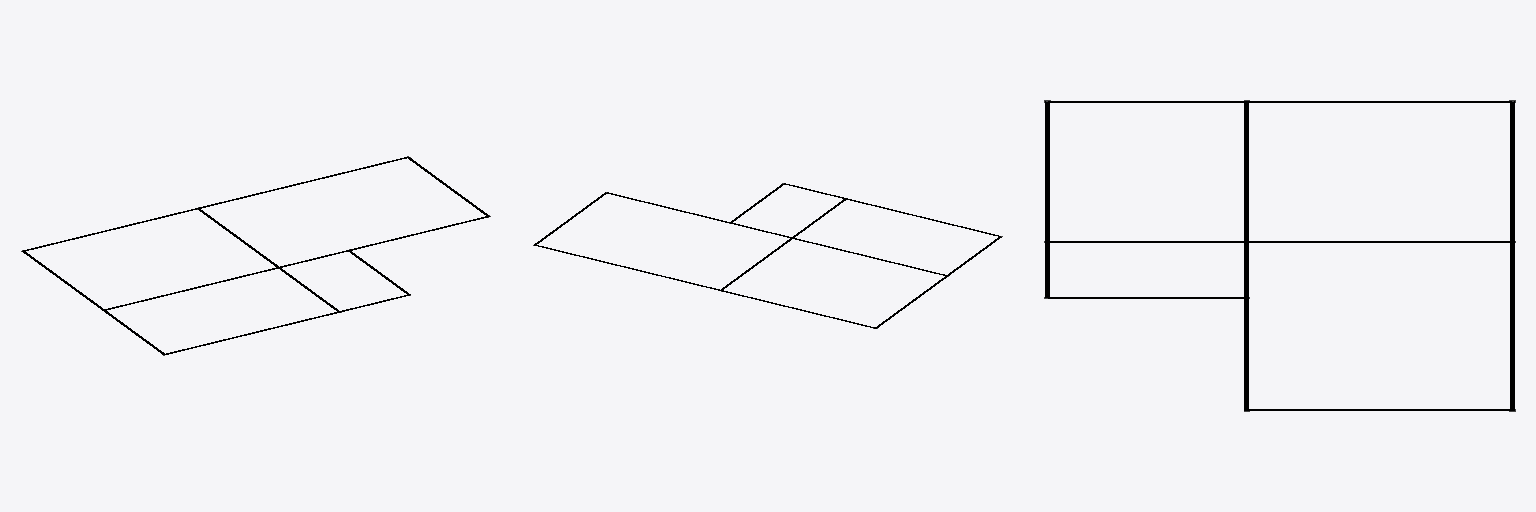
robot.urdf — lights:
<?xml version="1.0"?><robot name="lights"><link name="base_link"></link><link name="cross_base_1">   
  <visual>
    <geometry>
      <box size="5 5 .01"/>
    </geometry>
    <material name="grey">
      <color rgba="0.3 0.3 0.3 1" />
    </material>
  </visual>
</link>
<link name="cross_1">   
  <visual>
    <geometry>
      <box size="4 4 .01"/>
    </geometry>
    <material name="black">
      <color rgba="0 0 0 1" />
    </material>
  </visual>
</link>
<joint name="cross_base_to_link_1" type="fixed">
  <origin rpy="0 0 0" xyz="0 0 0.01"/>
  <parent link="base_link"/>
  <child link="cross_base_1"/>
</joint> 
<joint name="cross_to_cross_base_1" type="fixed">
  <origin rpy="0 0 0" xyz="0.0 0.0 0"/>
  <parent link="cross_base_1"/>
  <child link="cross_1"/>
</joint>

<link name="road_1_2">   
  <visual>
    <geometry>
      <box size="250 4 0.1"/>
    </geometry>
    <material name="black">
      <color rgba="0 0 0 1" />
    </material>
  </visual>
</link>


<joint name="road_1_2_to_cross" type="fixed">
  <origin rpy="0 0 0" xyz="125 0 0"/>
  <parent link="cross_1"/>
  <child link="road_1_2"/>
</joint>
<link name="road_1_4">   
  <visual>
    <geometry>
      <box size="4 200 0.1"/>
    </geometry>
    <material name="black">
      <color rgba="0 0 0 1" />
    </material>
  </visual>
</link>


<joint name="road_1_4_to_cross" type="fixed">
  <origin rpy="0 0 0" xyz="0 -100 0"/>
  <parent link="cross_1"/>
  <child link="road_1_4"/>
</joint>
<link name="cross_base_2">   
  <visual>
    <geometry>
      <box size="5 5 .01"/>
    </geometry>
    <material name="grey">
      <color rgba="0.3 0.3 0.3 1" />
    </material>
  </visual>
</link>
<link name="cross_2">   
  <visual>
    <geometry>
      <box size="4 4 .01"/>
    </geometry>
    <material name="black">
      <color rgba="0 0 0 1" />
    </material>
  </visual>
</link>
<joint name="cross_base_to_link_2" type="fixed">
  <origin rpy="0 0 0" xyz="250 0 0.01"/>
  <parent link="base_link"/>
  <child link="cross_base_2"/>
</joint> 
<joint name="cross_to_cross_base_2" type="fixed">
  <origin rpy="0 0 0" xyz="0.0 0.0 0"/>
  <parent link="cross_base_2"/>
  <child link="cross_2"/>
</joint>

<link name="road_2_3">   
  <visual>
    <geometry>
      <box size="300 4 0.1"/>
    </geometry>
    <material name="black">
      <color rgba="0 0 0 1" />
    </material>
  </visual>
</link>


<joint name="road_2_3_to_cross" type="fixed">
  <origin rpy="0 0 0" xyz="150 0 0"/>
  <parent link="cross_2"/>
  <child link="road_2_3"/>
</joint>
<link name="road_2_5">   
  <visual>
    <geometry>
      <box size="4 200 0.1"/>
    </geometry>
    <material name="black">
      <color rgba="0 0 0 1" />
    </material>
  </visual>
</link>


<joint name="road_2_5_to_cross" type="fixed">
  <origin rpy="0 0 0" xyz="0 -100 0"/>
  <parent link="cross_2"/>
  <child link="road_2_5"/>
</joint>
<link name="cross_base_3">   
  <visual>
    <geometry>
      <box size="5 5 .01"/>
    </geometry>
    <material name="grey">
      <color rgba="0.3 0.3 0.3 1" />
    </material>
  </visual>
</link>
<link name="cross_3">   
  <visual>
    <geometry>
      <box size="4 4 .01"/>
    </geometry>
    <material name="black">
      <color rgba="0 0 0 1" />
    </material>
  </visual>
</link>
<joint name="cross_base_to_link_3" type="fixed">
  <origin rpy="0 0 0" xyz="550 0 0.01"/>
  <parent link="base_link"/>
  <child link="cross_base_3"/>
</joint> 
<joint name="cross_to_cross_base_3" type="fixed">
  <origin rpy="0 0 0" xyz="0.0 0.0 0"/>
  <parent link="cross_base_3"/>
  <child link="cross_3"/>
</joint>

<link name="road_3_7">   
  <visual>
    <geometry>
      <box size="4 200 0.1"/>
    </geometry>
    <material name="black">
      <color rgba="0 0 0 1" />
    </material>
  </visual>
</link>


<joint name="road_3_7_to_cross" type="fixed">
  <origin rpy="0 0 0" xyz="0 -100 0"/>
  <parent link="cross_3"/>
  <child link="road_3_7"/>
</joint>
<link name="cross_base_4">   
  <visual>
    <geometry>
      <box size="5 5 .01"/>
    </geometry>
    <material name="grey">
      <color rgba="0.3 0.3 0.3 1" />
    </material>
  </visual>
</link>
<link name="cross_4">   
  <visual>
    <geometry>
      <box size="4 4 .01"/>
    </geometry>
    <material name="black">
      <color rgba="0 0 0 1" />
    </material>
  </visual>
</link>
<joint name="cross_base_to_link_4" type="fixed">
  <origin rpy="0 0 0" xyz="0 -200 0.01"/>
  <parent link="base_link"/>
  <child link="cross_base_4"/>
</joint> 
<joint name="cross_to_cross_base_4" type="fixed">
  <origin rpy="0 0 0" xyz="0.0 0.0 0"/>
  <parent link="cross_base_4"/>
  <child link="cross_4"/>
</joint>

<link name="road_4_5">   
  <visual>
    <geometry>
      <box size="250 4 0.1"/>
    </geometry>
    <material name="black">
      <color rgba="0 0 0 1" />
    </material>
  </visual>
</link>


<joint name="road_4_5_to_cross" type="fixed">
  <origin rpy="0 0 0" xyz="125 0 0"/>
  <parent link="cross_4"/>
  <child link="road_4_5"/>
</joint>
<link name="road_4_8">   
  <visual>
    <geometry>
      <box size="4 150 0.1"/>
    </geometry>
    <material name="black">
      <color rgba="0 0 0 1" />
    </material>
  </visual>
</link>


<joint name="road_4_8_to_cross" type="fixed">
  <origin rpy="0 0 0" xyz="0 -75 0"/>
  <parent link="cross_4"/>
  <child link="road_4_8"/>
</joint>
<link name="cross_base_5">   
  <visual>
    <geometry>
      <box size="5 5 .01"/>
    </geometry>
    <material name="grey">
      <color rgba="0.3 0.3 0.3 1" />
    </material>
  </visual>
</link>
<link name="cross_5">   
  <visual>
    <geometry>
      <box size="4 4 .01"/>
    </geometry>
    <material name="black">
      <color rgba="0 0 0 1" />
    </material>
  </visual>
</link>
<joint name="cross_base_to_link_5" type="fixed">
  <origin rpy="0 0 0" xyz="250 -200 0.01"/>
  <parent link="base_link"/>
  <child link="cross_base_5"/>
</joint> 
<joint name="cross_to_cross_base_5" type="fixed">
  <origin rpy="0 0 0" xyz="0.0 0.0 0"/>
  <parent link="cross_base_5"/>
  <child link="cross_5"/>
</joint>

<link name="road_5_6">   
  <visual>
    <geometry>
      <box size="100 4 0.1"/>
    </geometry>
    <material name="black">
      <color rgba="0 0 0 1" />
    </material>
  </visual>
</link>


<joint name="road_5_6_to_cross" type="fixed">
  <origin rpy="0 0 0" xyz="50 0 0"/>
  <parent link="cross_5"/>
  <child link="road_5_6"/>
</joint>
<link name="road_5_9">   
  <visual>
    <geometry>
      <box size="4 150 0.1"/>
    </geometry>
    <material name="black">
      <color rgba="0 0 0 1" />
    </material>
  </visual>
</link>


<joint name="road_5_9_to_cross" type="fixed">
  <origin rpy="0 0 0" xyz="0 -75 0"/>
  <parent link="cross_5"/>
  <child link="road_5_9"/>
</joint>
<link name="cross_base_6">   
  <visual>
    <geometry>
      <box size="5 5 .01"/>
    </geometry>
    <material name="grey">
      <color rgba="0.3 0.3 0.3 1" />
    </material>
  </visual>
</link>
<link name="cross_6">   
  <visual>
    <geometry>
      <box size="4 4 .01"/>
    </geometry>
    <material name="black">
      <color rgba="0 0 0 1" />
    </material>
  </visual>
</link>
<joint name="cross_base_to_link_6" type="fixed">
  <origin rpy="0 0 0" xyz="350 -200 0.01"/>
  <parent link="base_link"/>
  <child link="cross_base_6"/>
</joint> 
<joint name="cross_to_cross_base_6" type="fixed">
  <origin rpy="0 0 0" xyz="0.0 0.0 0"/>
  <parent link="cross_base_6"/>
  <child link="cross_6"/>
</joint>

<link name="road_6_7">   
  <visual>
    <geometry>
      <box size="200 4 0.1"/>
    </geometry>
    <material name="black">
      <color rgba="0 0 0 1" />
    </material>
  </visual>
</link>


<joint name="road_6_7_to_cross" type="fixed">
  <origin rpy="0 0 0" xyz="100 0 0"/>
  <parent link="cross_6"/>
  <child link="road_6_7"/>
</joint>
<link name="road_6_10">   
  <visual>
    <geometry>
      <box size="4 150 0.1"/>
    </geometry>
    <material name="black">
      <color rgba="0 0 0 1" />
    </material>
  </visual>
</link>


<joint name="road_6_10_to_cross" type="fixed">
  <origin rpy="0 0 0" xyz="0 -75 0"/>
  <parent link="cross_6"/>
  <child link="road_6_10"/>
</joint>
<link name="cross_base_7">   
  <visual>
    <geometry>
      <box size="5 5 .01"/>
    </geometry>
    <material name="grey">
      <color rgba="0.3 0.3 0.3 1" />
    </material>
  </visual>
</link>
<link name="cross_7">   
  <visual>
    <geometry>
      <box size="4 4 .01"/>
    </geometry>
    <material name="black">
      <color rgba="0 0 0 1" />
    </material>
  </visual>
</link>
<joint name="cross_base_to_link_7" type="fixed">
  <origin rpy="0 0 0" xyz="550 -200 0.01"/>
  <parent link="base_link"/>
  <child link="cross_base_7"/>
</joint> 
<joint name="cross_to_cross_base_7" type="fixed">
  <origin rpy="0 0 0" xyz="0.0 0.0 0"/>
  <parent link="cross_base_7"/>
  <child link="cross_7"/>
</joint>

<link name="cross_base_8">   
  <visual>
    <geometry>
      <box size="5 5 .01"/>
    </geometry>
    <material name="grey">
      <color rgba="0.3 0.3 0.3 1" />
    </material>
  </visual>
</link>
<link name="cross_8">   
  <visual>
    <geometry>
      <box size="4 4 .01"/>
    </geometry>
    <material name="black">
      <color rgba="0 0 0 1" />
    </material>
  </visual>
</link>
<joint name="cross_base_to_link_8" type="fixed">
  <origin rpy="0 0 0" xyz="0 -350 0.01"/>
  <parent link="base_link"/>
  <child link="cross_base_8"/>
</joint> 
<joint name="cross_to_cross_base_8" type="fixed">
  <origin rpy="0 0 0" xyz="0.0 0.0 0"/>
  <parent link="cross_base_8"/>
  <child link="cross_8"/>
</joint>

<link name="road_8_9">   
  <visual>
    <geometry>
      <box size="250 4 0.1"/>
    </geometry>
    <material name="black">
      <color rgba="0 0 0 1" />
    </material>
  </visual>
</link>


<joint name="road_8_9_to_cross" type="fixed">
  <origin rpy="0 0 0" xyz="125 0 0"/>
  <parent link="cross_8"/>
  <child link="road_8_9"/>
</joint>
<link name="cross_base_9">   
  <visual>
    <geometry>
      <box size="5 5 .01"/>
    </geometry>
    <material name="grey">
      <color rgba="0.3 0.3 0.3 1" />
    </material>
  </visual>
</link>
<link name="cross_9">   
  <visual>
    <geometry>
      <box size="4 4 .01"/>
    </geometry>
    <material name="black">
      <color rgba="0 0 0 1" />
    </material>
  </visual>
</link>
<joint name="cross_base_to_link_9" type="fixed">
  <origin rpy="0 0 0" xyz="250 -350 0.01"/>
  <parent link="base_link"/>
  <child link="cross_base_9"/>
</joint> 
<joint name="cross_to_cross_base_9" type="fixed">
  <origin rpy="0 0 0" xyz="0.0 0.0 0"/>
  <parent link="cross_base_9"/>
  <child link="cross_9"/>
</joint>

<link name="road_9_10">   
  <visual>
    <geometry>
      <box size="100 4 0.1"/>
    </geometry>
    <material name="black">
      <color rgba="0 0 0 1" />
    </material>
  </visual>
</link>


<joint name="road_9_10_to_cross" type="fixed">
  <origin rpy="0 0 0" xyz="50 0 0"/>
  <parent link="cross_9"/>
  <child link="road_9_10"/>
</joint>
<link name="cross_base_10">   
  <visual>
    <geometry>
      <box size="5 5 .01"/>
    </geometry>
    <material name="grey">
      <color rgba="0.3 0.3 0.3 1" />
    </material>
  </visual>
</link>
<link name="cross_10">   
  <visual>
    <geometry>
      <box size="4 4 .01"/>
    </geometry>
    <material name="black">
      <color rgba="0 0 0 1" />
    </material>
  </visual>
</link>
<joint name="cross_base_to_link_10" type="fixed">
  <origin rpy="0 0 0" xyz="350 -350 0.01"/>
  <parent link="base_link"/>
  <child link="cross_base_10"/>
</joint> 
<joint name="cross_to_cross_base_10" type="fixed">
  <origin rpy="0 0 0" xyz="0.0 0.0 0"/>
  <parent link="cross_base_10"/>
  <child link="cross_10"/>
</joint>

</robot>

--- Facts derived from the render (not from the file) ---
3 views of the same robot in one strip: view 1: azimuth 30°, elevation 25°; view 2: azimuth 150°, elevation 25°; view 3: azimuth 270°, elevation 25° (orthographic).
Model lights with 34 links and 33 joints (33 fixed), rooted at base_link, posed every joint at zero.
Links seen in each view (by area): view 1: none; view 2: none; view 3: road_2_3, road_1_2, road_8_9, road_4_5, road_6_7, road_2_5, road_1_4, road_3_7.
Boxes of the visible links, box(x1,y1,x2,y2) form: road_2_3: box(1510, 242, 1514, 409); road_1_2: box(1510, 102, 1514, 241); road_8_9: box(1045, 102, 1049, 241); road_4_5: box(1244, 102, 1248, 240); road_6_7: box(1244, 298, 1248, 409); road_2_5: box(1247, 241, 1511, 242); road_1_4: box(1247, 101, 1511, 102); road_3_7: box(1247, 409, 1511, 410).
Size in the robot's own frame: 555 by 355 by 0.1 metres.
Geometry: primitives only (box / cylinder / sphere), no mesh files.
